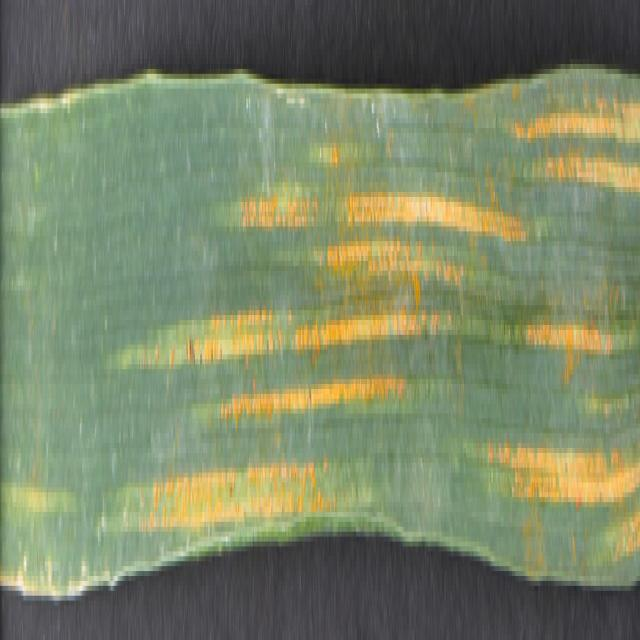leaf rust: (129, 93, 640, 571)
